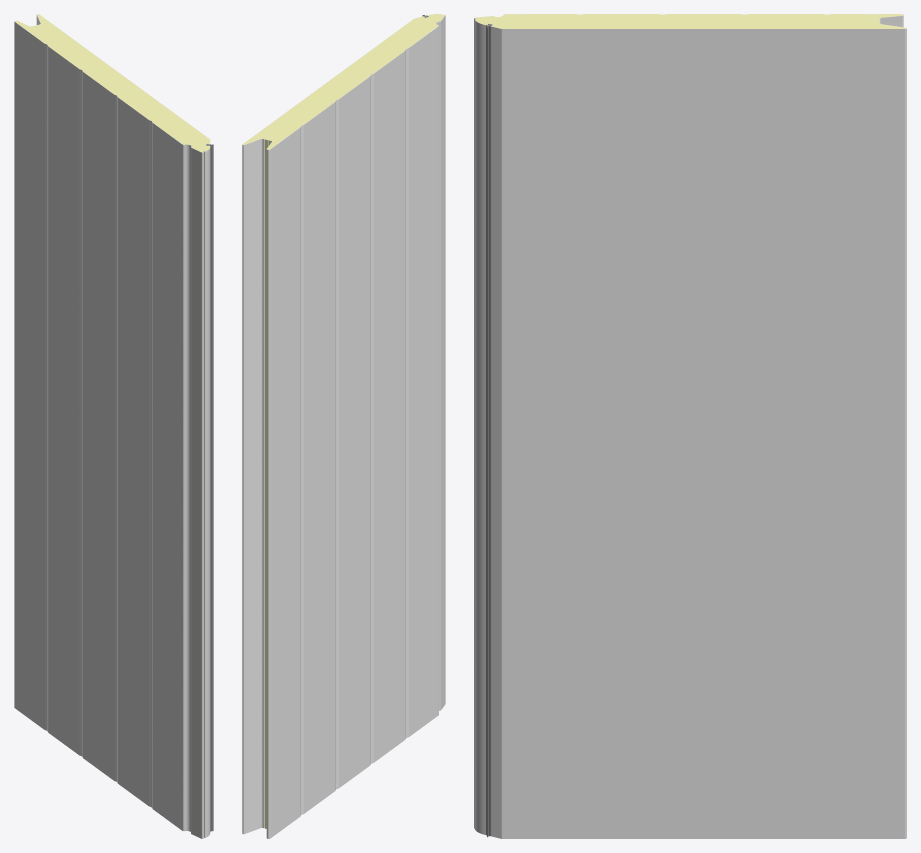
File: fdsafdsafdsa.glb
3 views of the same model, side by side, from view 1: azimuth 30°, elevation 25°; view 2: azimuth 150°, elevation 25°; view 3: azimuth 270°, elevation 25° (orthographic). The views are drawn at different scales.
Visible parts, largest first — view 1: FSK-40_Liner_FSK-40-Liner_1000_V-100.0_460, FSK-40_Foam_FSK-40-FOAM_V_Flat_460, FSK-40_External-sheet_FSK-40-Ext_V_Flat_460, 324.5229-324.5230-K13A.0930-K13A.0931; view 2: FSK-40_Liner_FSK-40-Liner_1000_V-100.0_460, FSK-40_External-sheet_FSK-40-Ext_V_Flat_460, FSK-40_Foam_FSK-40-FOAM_V_Flat_460; view 3: FSK-40_External-sheet_FSK-40-Ext_V_Flat_460, FSK-40_Foam_FSK-40-FOAM_V_Flat_460, 324.5229-324.5230-K13A.0930-K13A.0931, FSK-40_Liner_FSK-40-Liner_1000_V-100.0_460.
Part boxes in pixels (x1,y1,x2,y2): FSK-40_Liner_FSK-40-Liner_1000_V-100.0_460: (14,20,203,838); FSK-40_Foam_FSK-40-FOAM_V_Flat_460: (15,14,209,837); FSK-40_External-sheet_FSK-40-Ext_V_Flat_460: (36,14,210,837); 324.5229-324.5230-K13A.0930-K13A.0931: (206,144,213,831); FSK-40_Liner_FSK-40-Liner_1000_V-100.0_460: (266,15,445,838); FSK-40_External-sheet_FSK-40-Ext_V_Flat_460: (242,14,442,834); FSK-40_Foam_FSK-40-FOAM_V_Flat_460: (243,14,444,828); FSK-40_External-sheet_FSK-40-Ext_V_Flat_460: (475,19,906,838); FSK-40_Foam_FSK-40-FOAM_V_Flat_460: (474,14,906,28); 324.5229-324.5230-K13A.0930-K13A.0931: (486,24,492,837); FSK-40_Liner_FSK-40-Liner_1000_V-100.0_460: (474,14,903,828).
Size of the model in its own units: 0.04 by 1 by 0.4845.
